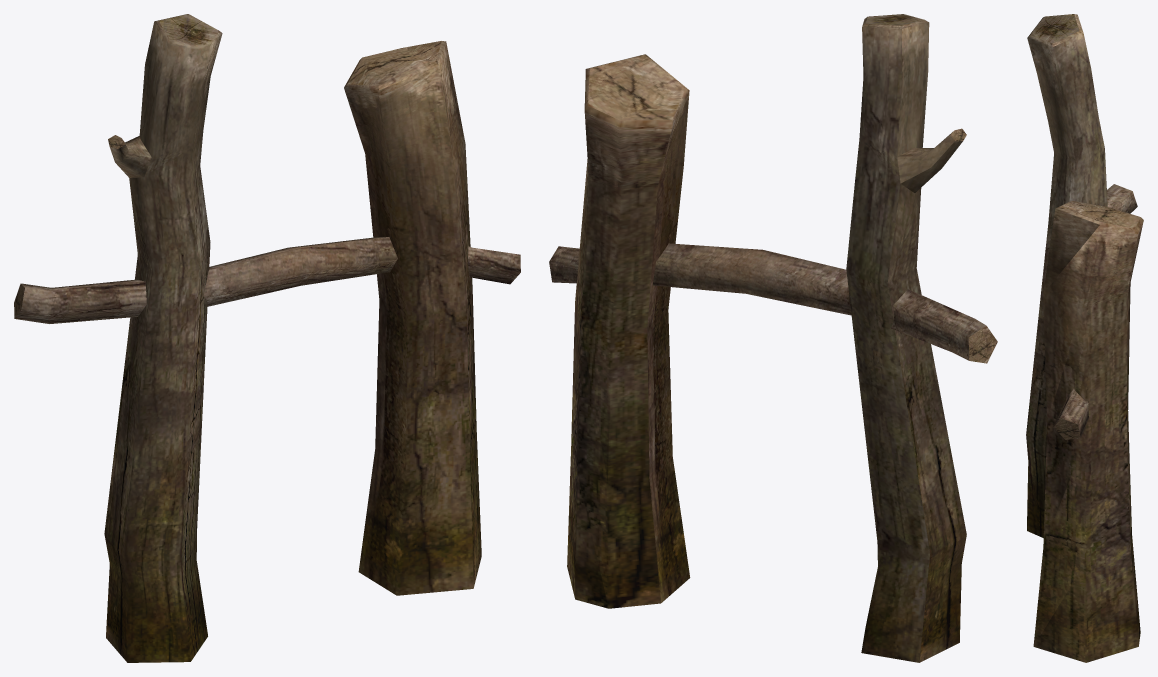
The model's file is Fence03.FBX.
3 renders of one model, left to right at view 1: azimuth 30°, elevation 25°; view 2: azimuth 150°, elevation 25°; view 3: azimuth 270°, elevation 25°, orthographic. The views are drawn at different scales.
Parts seen in each view (by area): view 1: LV_TurtleLake_Lakevillage_fence01_SM_EYE; view 2: LV_TurtleLake_Lakevillage_fence01_SM_EYE; view 3: LV_TurtleLake_Lakevillage_fence01_SM_EYE.
Part boxes in pixels (x1,y1,x2,y2): LV_TurtleLake_Lakevillage_fence01_SM_EYE: [14, 14, 520, 662]; LV_TurtleLake_Lakevillage_fence01_SM_EYE: [549, 14, 997, 662]; LV_TurtleLake_Lakevillage_fence01_SM_EYE: [1026, 14, 1143, 662].
Size of the model in its own units: 27.1 by 34.15 by 7.07.
